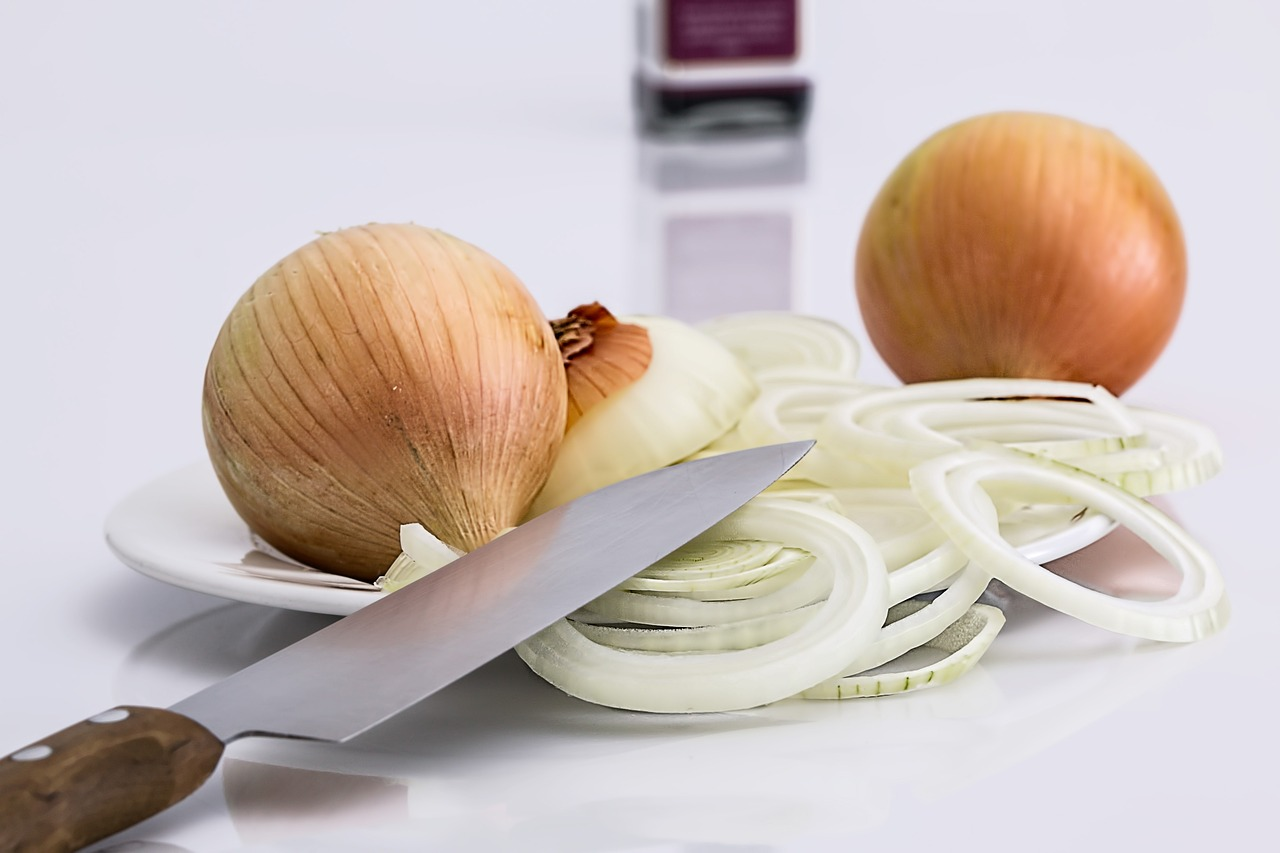knife: (0, 426, 824, 853)
